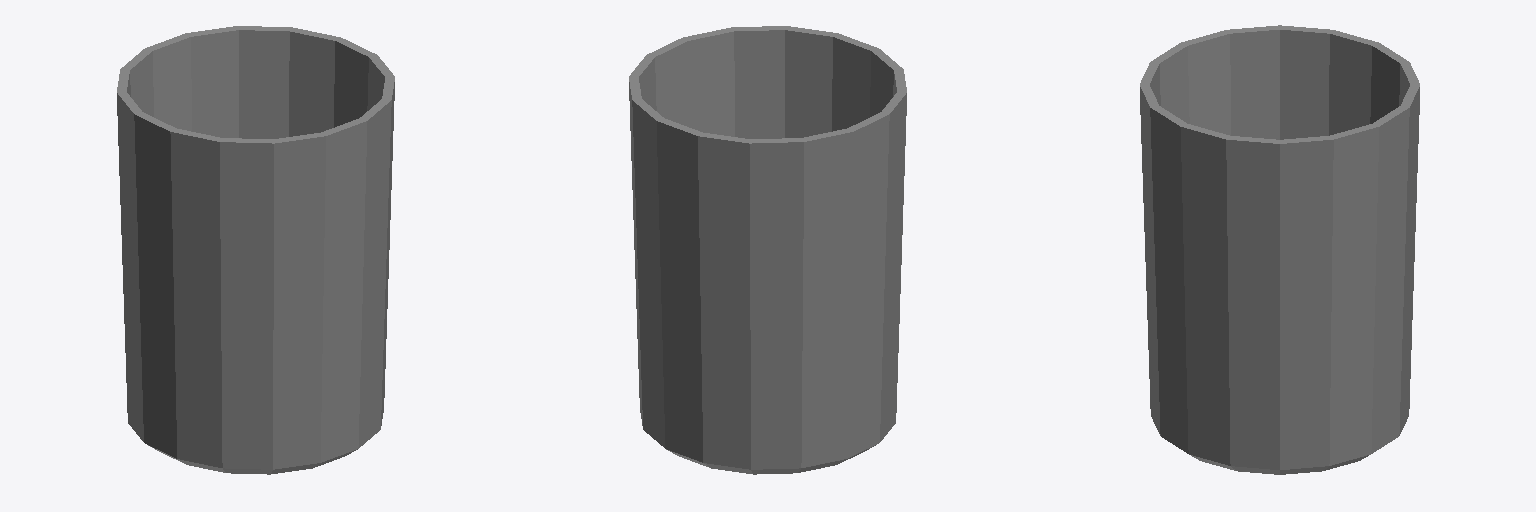
File: Water Glass BB.obj
3 renders of one model, left to right at view 1: azimuth 30°, elevation 25°; view 2: azimuth 150°, elevation 25°; view 3: azimuth 270°, elevation 25°, orthographic.
Parts seen in each view (by area): view 1: Water Glass BB; view 2: Water Glass BB; view 3: Water Glass BB.
Boxes of the visible parts, box(x1,y1,x2,y2) form: Water Glass BB: box(117, 26, 394, 474); Water Glass BB: box(629, 26, 906, 474); Water Glass BB: box(1140, 25, 1419, 474).
Size of the model in its own units: 0.1 by 0.1346 by 0.1.